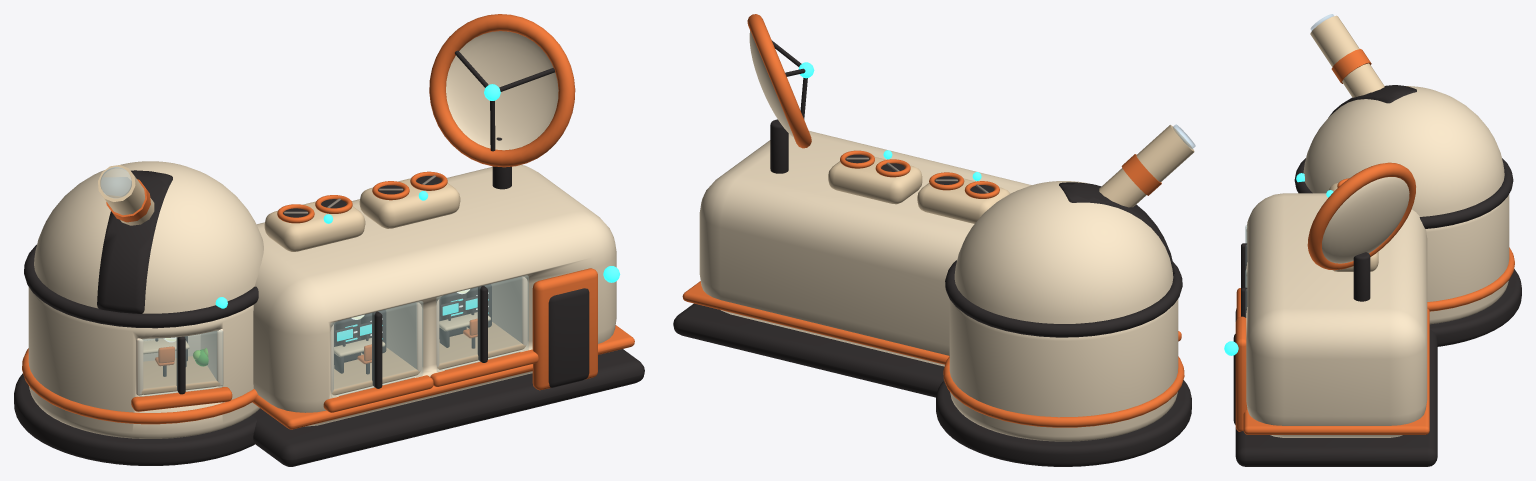
The model's file is research-b-10.glb.
The picture shows the model from 3 angles, left to right: view 1: azimuth 30°, elevation 25°; view 2: azimuth 150°, elevation 25°; view 3: azimuth 270°, elevation 25°; orthographic projection. The views are drawn at different scales.
Parts seen in each view (by area): view 1: Cube.018, Sphere, Cylinder.001, Cube.017, Sphere.010, Cylinder, Torus.002, Cube.050, Cube.084, Sphere.001, Cube.014, Torus.001 (+19 smaller); view 2: Cube.018, Sphere, Cylinder.001, Cube.017, Cylinder, Torus.001, Torus, Cube.087, pipe, Cube.093, Torus.002, Cube.090 (+4 smaller); view 3: Cube.018, Sphere, Cube.017, Cylinder.001, Sphere.010, Torus.002, Cylinder, Cube.087, pipe, Torus.001, Cube.088, Torus (+3 smaller).
Part boxes in pixels (left/top/right/bottom): Cube.018: left=253, top=165, right=616, bottom=426; Sphere: left=34, top=161, right=263, bottom=313; Cylinder.001: left=28, top=287, right=259, bottom=438; Cube.017: left=251, top=349, right=644, bottom=466; Sphere.010: left=446, top=31, right=558, bottom=150; Cylinder: left=14, top=373, right=256, bottom=465; Torus.002: left=429, top=14, right=575, bottom=167; Cube.050: left=330, top=301, right=423, bottom=397; Cube.084: left=436, top=275, right=528, bottom=371; Sphere.001: left=97, top=170, right=172, bottom=313; Cube.014: left=138, top=330, right=223, bottom=396; Torus.001: left=24, top=244, right=258, bottom=328; Cube.018: left=699, top=131, right=1031, bottom=366; Sphere: left=954, top=181, right=1173, bottom=323; Cylinder.001: left=949, top=299, right=1178, bottom=441; Cube.017: left=673, top=303, right=944, bottom=397; Cylinder: left=936, top=380, right=1191, bottom=466; Torus.001: left=945, top=260, right=1182, bottom=337; Torus: left=943, top=356, right=1184, bottom=427; Cube.087: left=682, top=281, right=949, bottom=364; pipe: left=1099, top=125, right=1194, bottom=207; Cube.093: left=828, top=156, right=922, bottom=204; Torus.002: left=747, top=14, right=811, bottom=148; Cube.090: left=917, top=178, right=1010, bottom=223; Cube.018: left=1246, top=193, right=1427, bottom=437; Sphere: left=1303, top=86, right=1504, bottom=216; Cube.017: left=1235, top=308, right=1437, bottom=466; Cylinder.001: left=1426, top=194, right=1509, bottom=324; Sphere.010: left=1322, top=177, right=1409, bottom=263; Torus.002: left=1307, top=162, right=1415, bottom=270; Cylinder: left=1429, top=269, right=1521, bottom=346; Cube.087: left=1243, top=308, right=1429, bottom=434; pipe: left=1310, top=15, right=1384, bottom=97; Torus.001: left=1294, top=158, right=1513, bottom=228; Cube.088: left=1235, top=316, right=1247, bottom=431; Torus: left=1427, top=247, right=1514, bottom=311.
Bounding box in the file's own units: 2.46 × 1.47 × 1.42.
